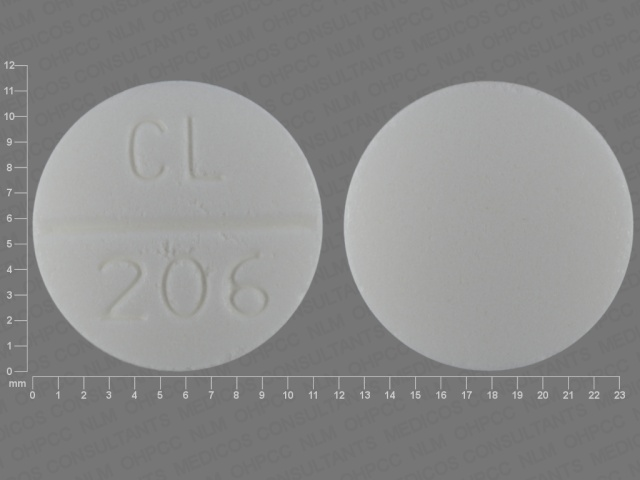0: (155, 249, 212, 320)
2: (92, 251, 148, 326)
6: (225, 249, 275, 319)
C: (122, 115, 173, 183)
L: (182, 110, 233, 186)
|: (31, 210, 326, 245)
